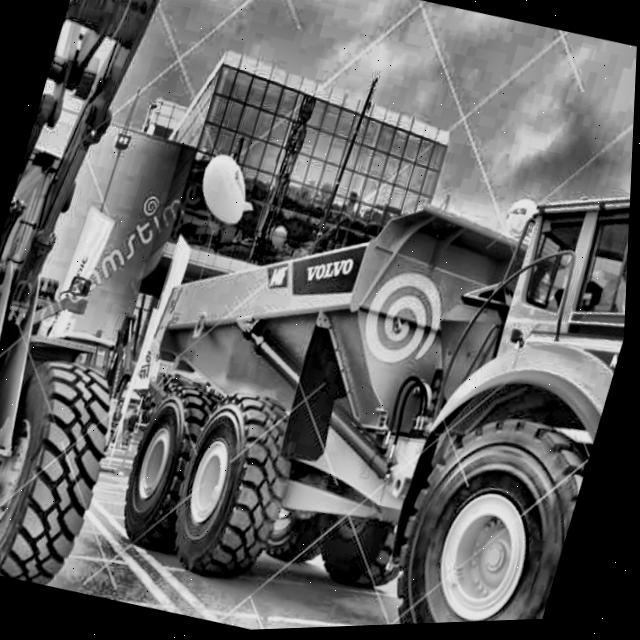buldozerpayloadergrader: (0, 0, 338, 616)
dump_truck: (92, 67, 637, 637)
